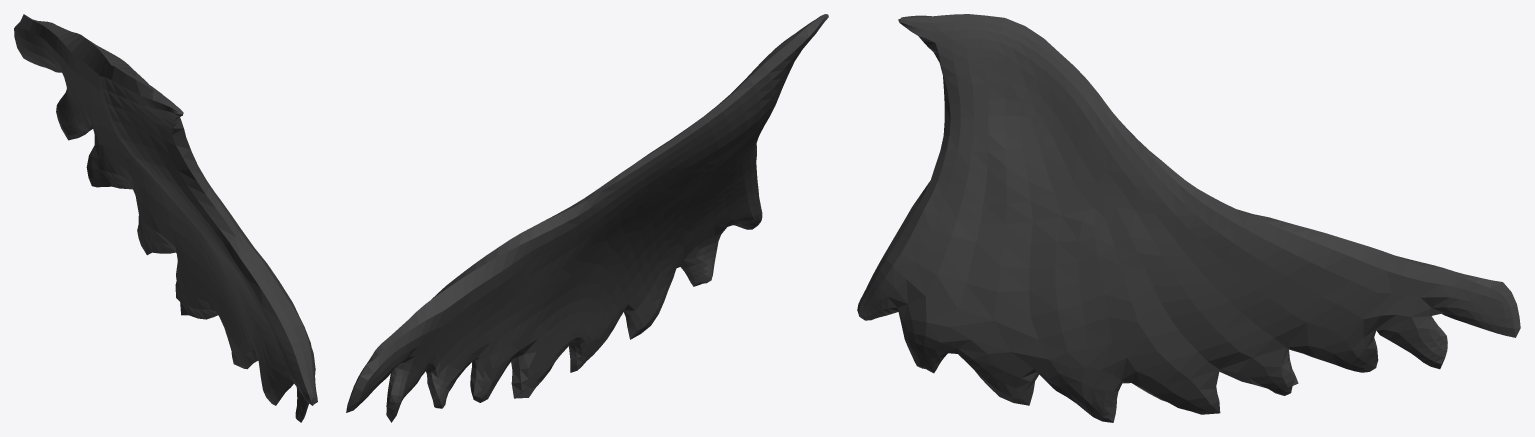
The model's file is Serratus_dorsalis_cranialis.glb.
The picture shows the model from 3 angles, left to right: view 1: azimuth 30°, elevation 25°; view 2: azimuth 150°, elevation 25°; view 3: azimuth 270°, elevation 25°; orthographic projection. The views are drawn at different scales.
Visible parts, largest first — view 1: Serratus_dorsalis_cranialis; view 2: Serratus_dorsalis_cranialis; view 3: Serratus_dorsalis_cranialis.
Part boxes in pixels (x1,y1,x2,y2): Serratus_dorsalis_cranialis: (14, 14, 317, 422); Serratus_dorsalis_cranialis: (346, 14, 828, 422); Serratus_dorsalis_cranialis: (857, 14, 1520, 422).
Bounding box in the file's own units: 0.39 × 0.6407 × 1.16.
Materials: 1 (1 with a texture image).
